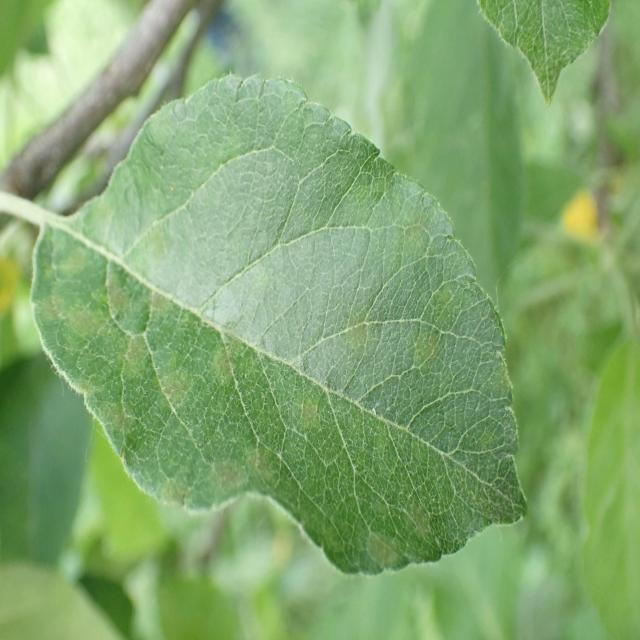scab: (47, 142, 519, 580)
